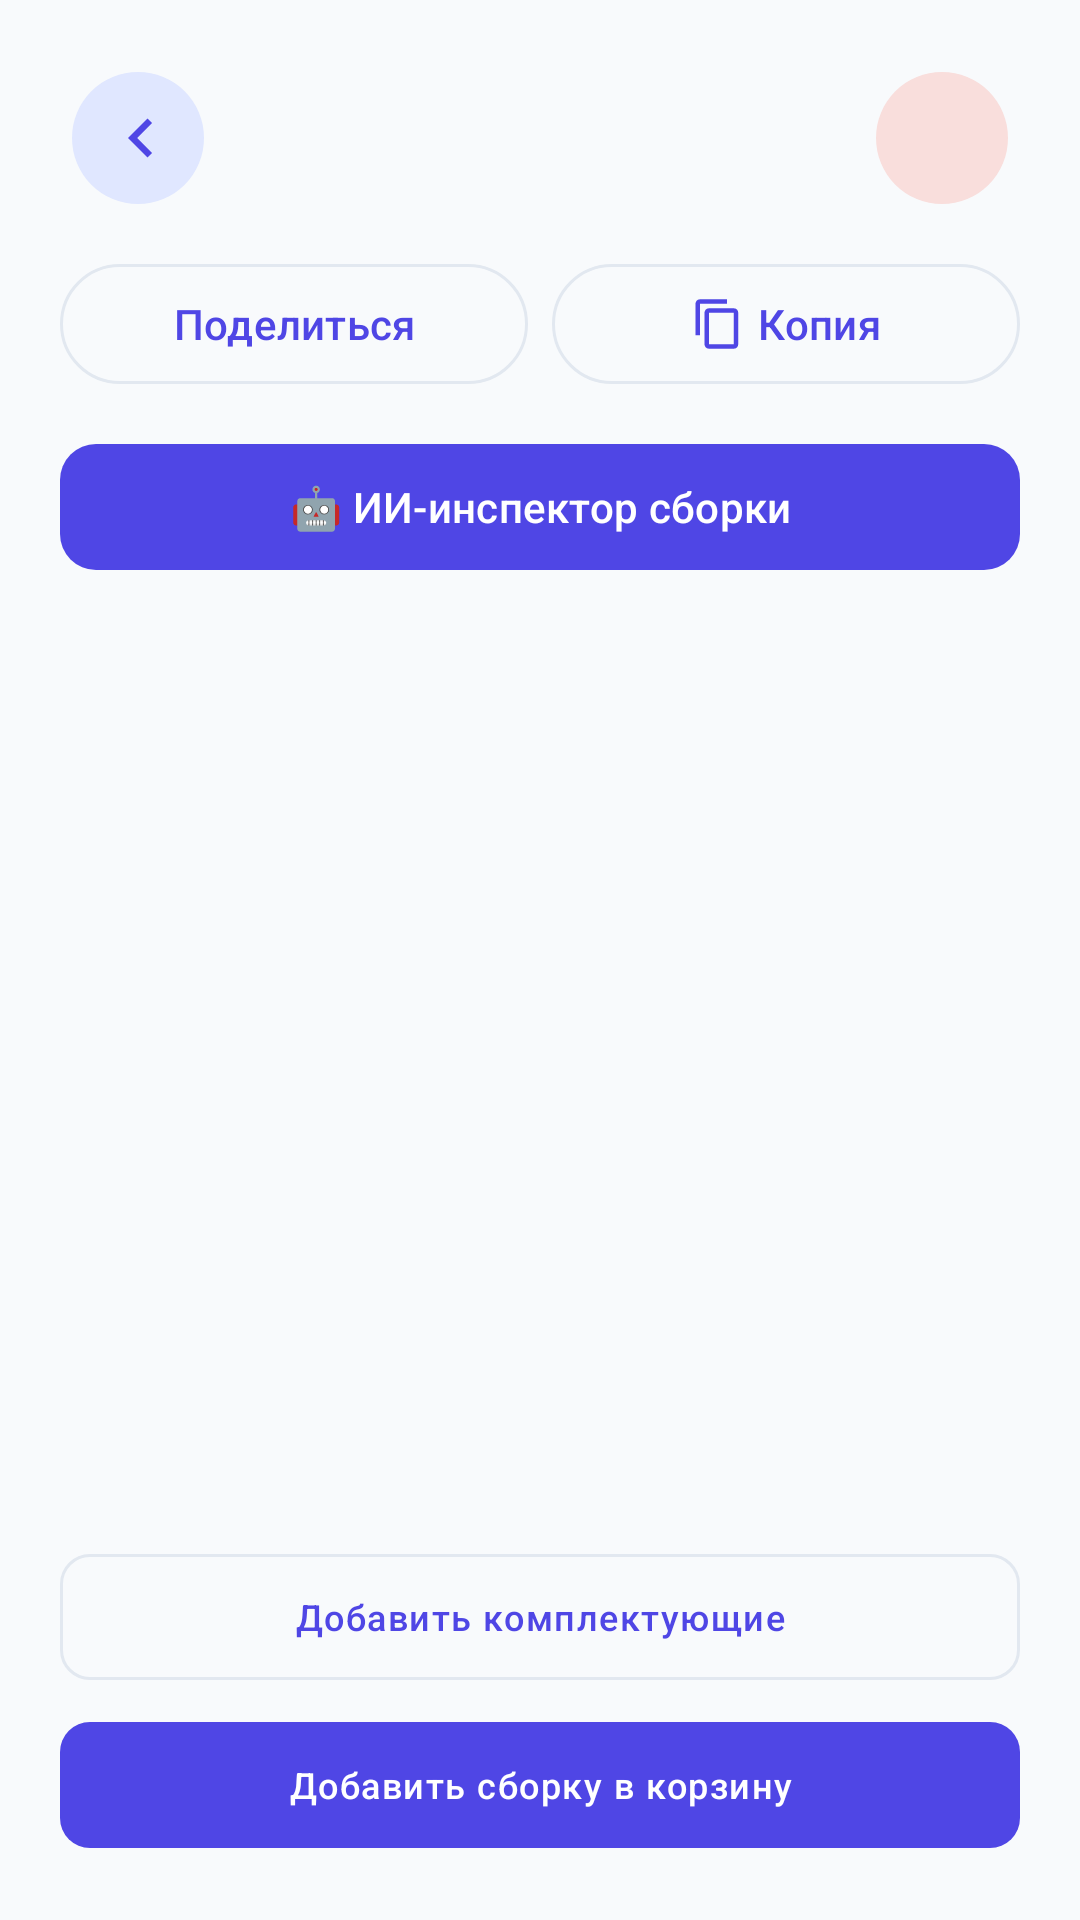

Icon bounding boxes for this 1080 × 1920 phone screenshot, format (x1=x1, y1=y1, x2=x2, y2=y2):
Назад к списку сборок: (x1=72, y1=72, x2=204, y2=204)
